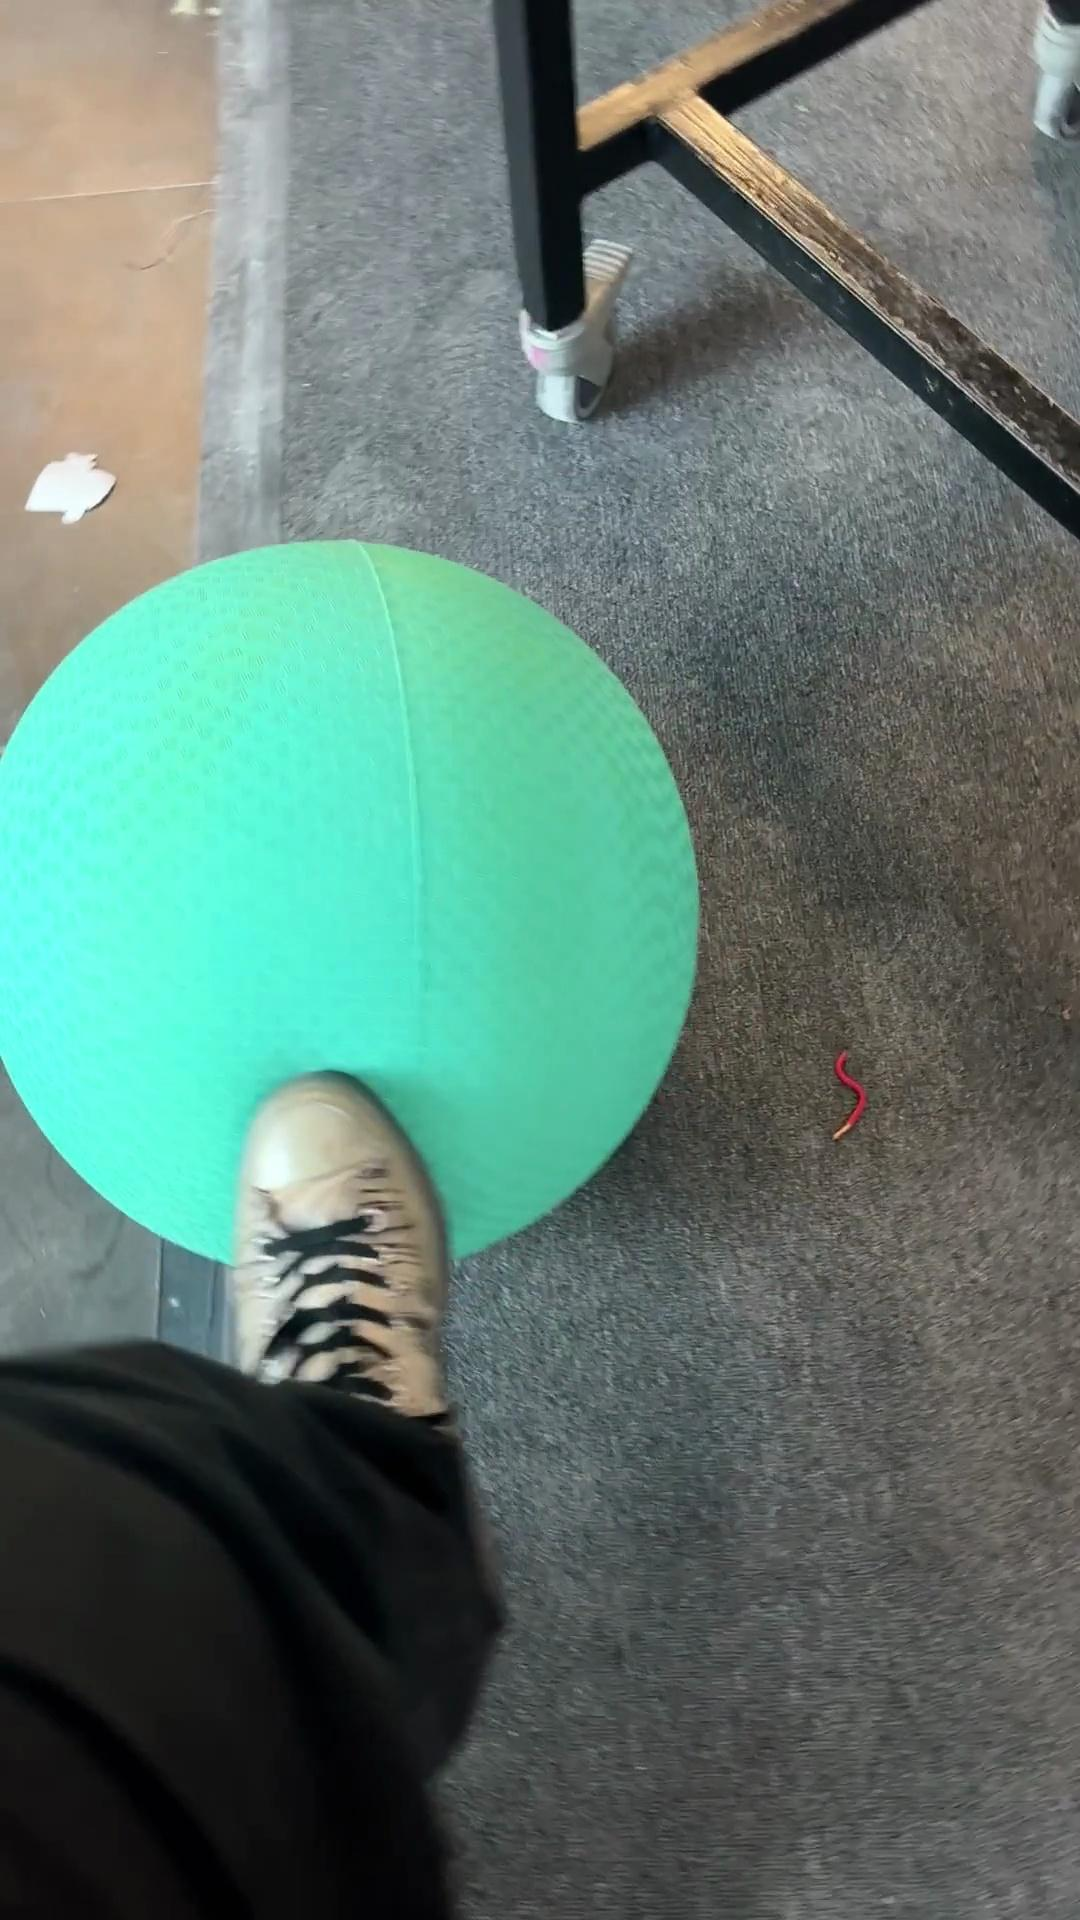ALGAE: (1, 535, 702, 1270)
